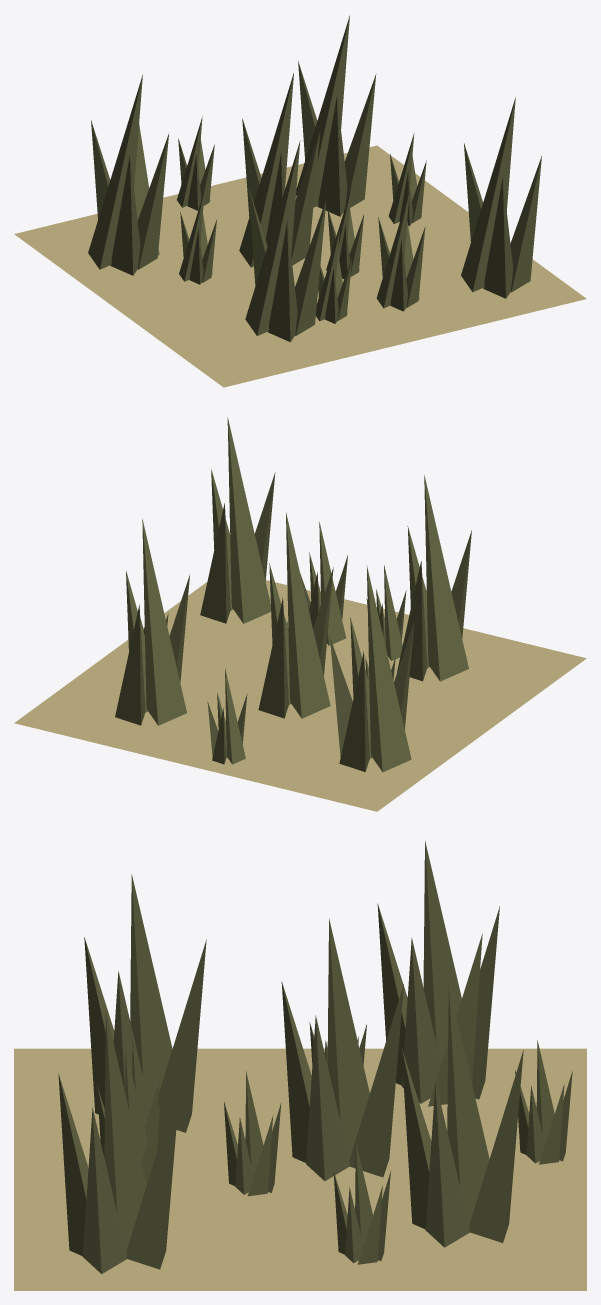
The model's file is bettergrass.fbx.
3 views of the same model, one above another, from view 1: azimuth 30°, elevation 25°; view 2: azimuth 150°, elevation 25°; view 3: azimuth 270°, elevation 25° (orthographic). The views are drawn at different scales.
Visible parts, largest first — view 1: Plane, Cone, Cone.013, Cone.017, Cone.009, Cone.005, Cone.014, Cone.016, Cone.020, Cone.004, Cone.001, Cone.006 (+17 smaller); view 2: Plane, Cone.005, Cone.017, Cone, Cone.009, Cone.013, Cone.007, Cone.011, Cone.015, Cone.002, Cone.019, Cone.046 (+13 smaller); view 3: Plane, Cone.013, Cone.005, Cone.009, Cone.017, Cone, Cone.007, Cone.015, Cone.011, Cone.016, Cone.008, Cone.012 (+24 smaller).
Part boxes in pixels (x1=…): Plane: x1=14, y1=145, x2=586, y2=387; Cone: x1=88, y1=74, x2=142, y2=269; Cone.013: x1=461, y1=97, x2=515, y2=292; Cone.017: x1=245, y1=140, x2=300, y2=335; Cone.009: x1=239, y1=73, x2=293, y2=267; Cone.005: x1=296, y1=15, x2=349, y2=207; Cone.014: x1=483, y1=177, x2=513, y2=298; Cone.016: x1=510, y1=156, x2=541, y2=292; Cone.020: x1=295, y1=200, x2=326, y2=335; Cone.004: x1=137, y1=134, x2=168, y2=269; Cone.001: x1=110, y1=155, x2=140, y2=275; Cone.006: x1=317, y1=96, x2=347, y2=216; Plane: x1=14, y1=580, x2=586, y2=811; Cone.005: x1=142, y1=519, x2=186, y2=725; Cone.017: x1=424, y1=475, x2=468, y2=681; Cone: x1=366, y1=565, x2=411, y2=772; Cone.009: x1=286, y1=512, x2=330, y2=718; Cone.013: x1=227, y1=417, x2=271, y2=623; Cone.007: x1=115, y1=604, x2=145, y2=725; Cone.011: x1=258, y1=598, x2=288, y2=718; Cone.015: x1=200, y1=503, x2=230, y2=623; Cone.002: x1=339, y1=651, x2=369, y2=772; Cone.019: x1=397, y1=561, x2=427, y2=681; Cone.046: x1=319, y1=521, x2=345, y2=645; Plane: x1=14, y1=1048, x2=586, y2=1290; Cone.013: x1=104, y1=1011, x2=146, y2=1251; Cone.005: x1=447, y1=984, x2=489, y2=1224; Cone.009: x1=327, y1=918, x2=369, y2=1159; Cone.017: x1=130, y1=874, x2=172, y2=1107; Cone: x1=423, y1=841, x2=461, y2=1063; Cone.007: x1=469, y1=1050, x2=523, y2=1242; Cone.015: x1=126, y1=1077, x2=180, y2=1269; Cone.011: x1=349, y1=984, x2=403, y2=1177; Cone.016: x1=82, y1=1108, x2=126, y2=1273; Cone.008: x1=425, y1=1081, x2=469, y2=1247; Cone.012: x1=306, y1=1015, x2=349, y2=1180.
Size of the model in its own units: 840 by 417 by 840.
